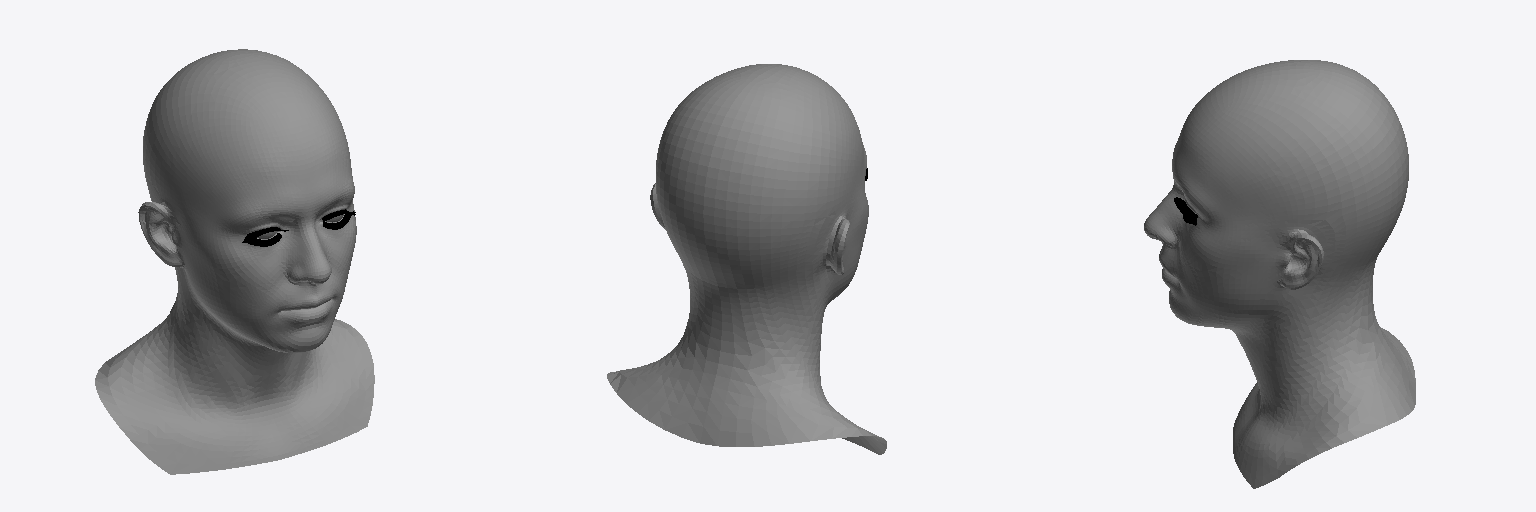
The model's file is identity080.obj.
3 views of the same model, side by side, from view 1: azimuth 30°, elevation 25°; view 2: azimuth 150°, elevation 25°; view 3: azimuth 270°, elevation 25° (orthographic).
Bounding box in the file's own units: 24.83 × 33.81 × 22.32.